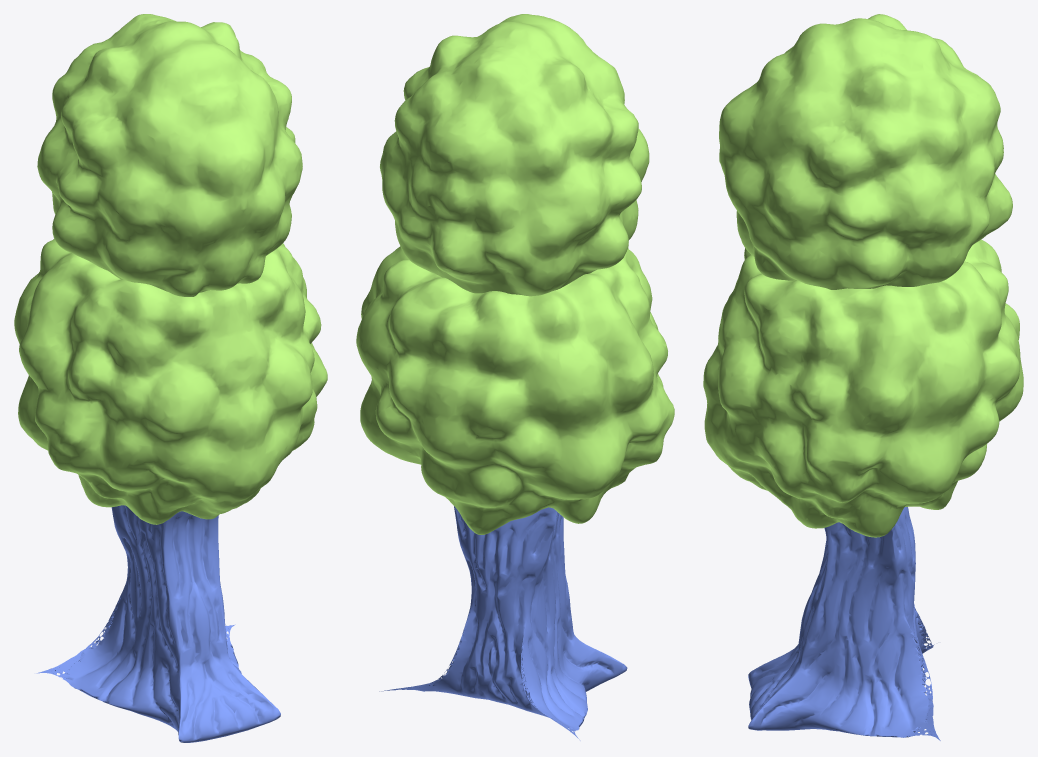
The model's file is Tree-bush.fbx.
3 views of the same model, side by side, from view 1: azimuth 30°, elevation 25°; view 2: azimuth 150°, elevation 25°; view 3: azimuth 270°, elevation 25° (orthographic). The views are drawn at different scales.
Visible parts, largest first — view 1: Tree-bush_Dup_1; view 2: Tree-bush_Dup_1; view 3: Tree-bush_Dup_1.
Boxes of the visible parts, <box> form: Tree-bush_Dup_1: <box>14,14,327,742</box>; Tree-bush_Dup_1: <box>356,14,674,740</box>; Tree-bush_Dup_1: <box>703,14,1023,740</box>.
Size of the model in its own units: 1.14 by 2.64 by 1.1.
